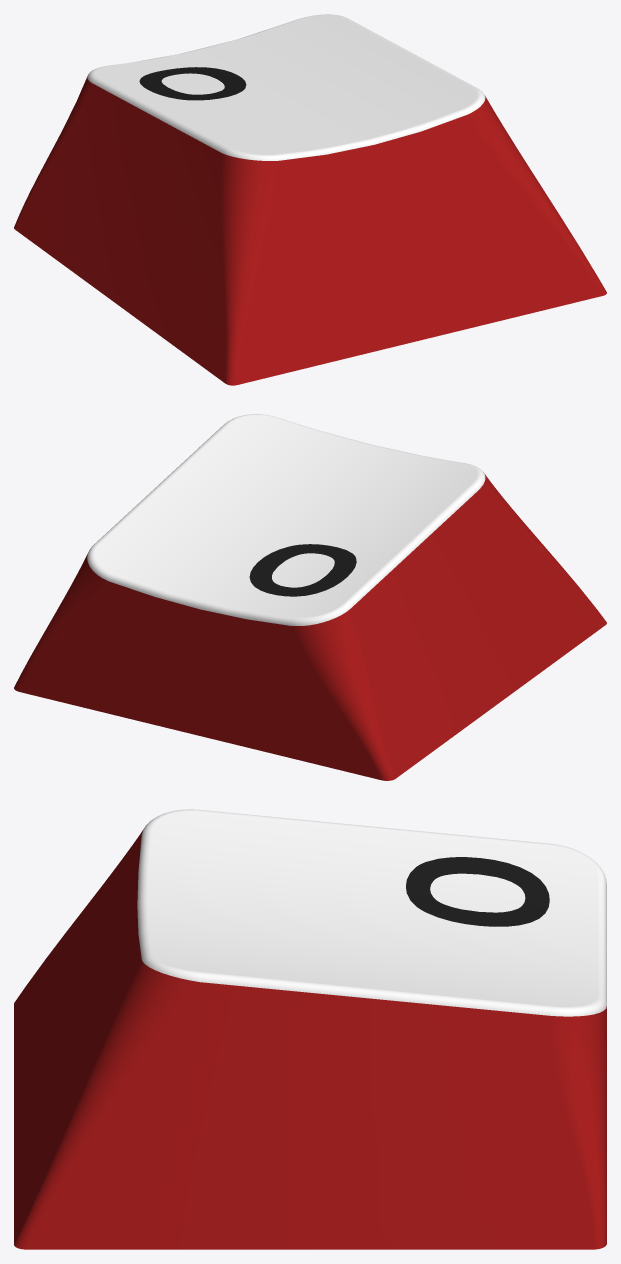
3 renders of one model, top to bottom at view 1: azimuth 30°, elevation 25°; view 2: azimuth 150°, elevation 25°; view 3: azimuth 270°, elevation 25°, orthographic. The views are drawn at different scales.
Visible parts, largest first — view 1: Body1; view 2: Body1; view 3: Body1.
Part boxes in pixels (bbox=[...]): Body1: bbox=[14, 14, 606, 385]; Body1: bbox=[14, 414, 606, 780]; Body1: bbox=[14, 809, 606, 1249].
Size of the model in its own units: 18 by 7.85 by 18.
